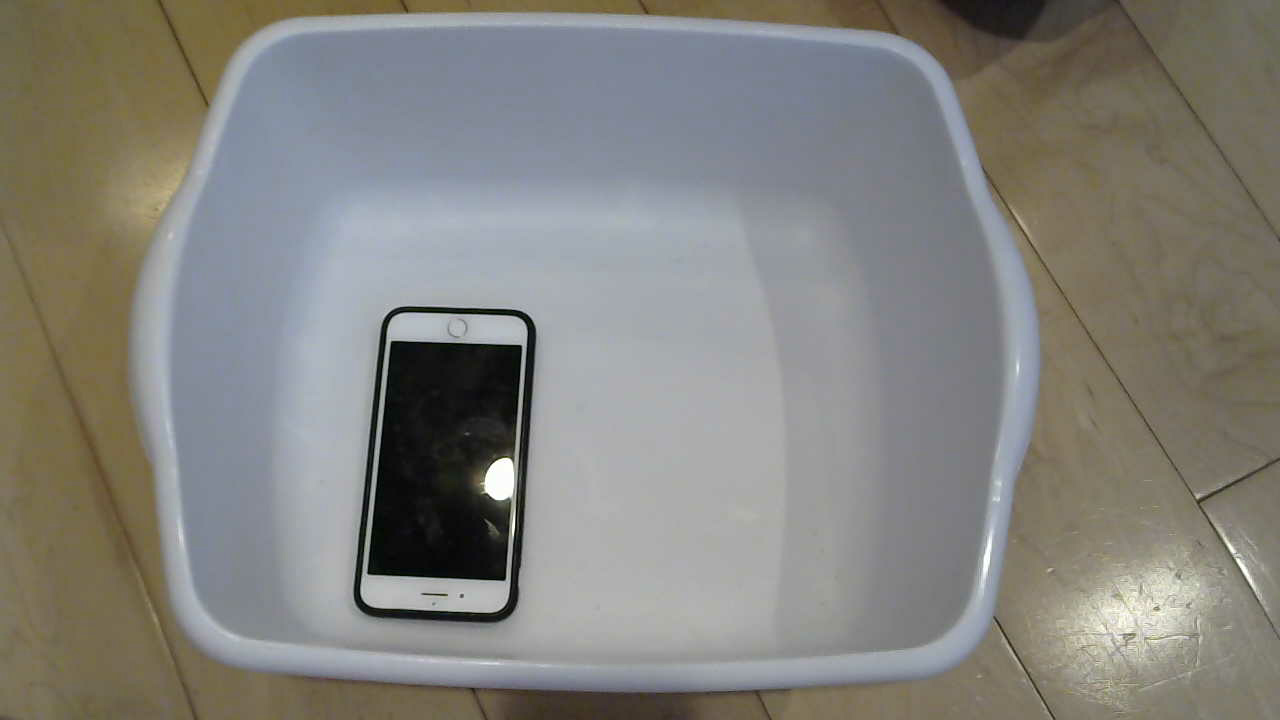phone: (354, 305, 561, 638)
